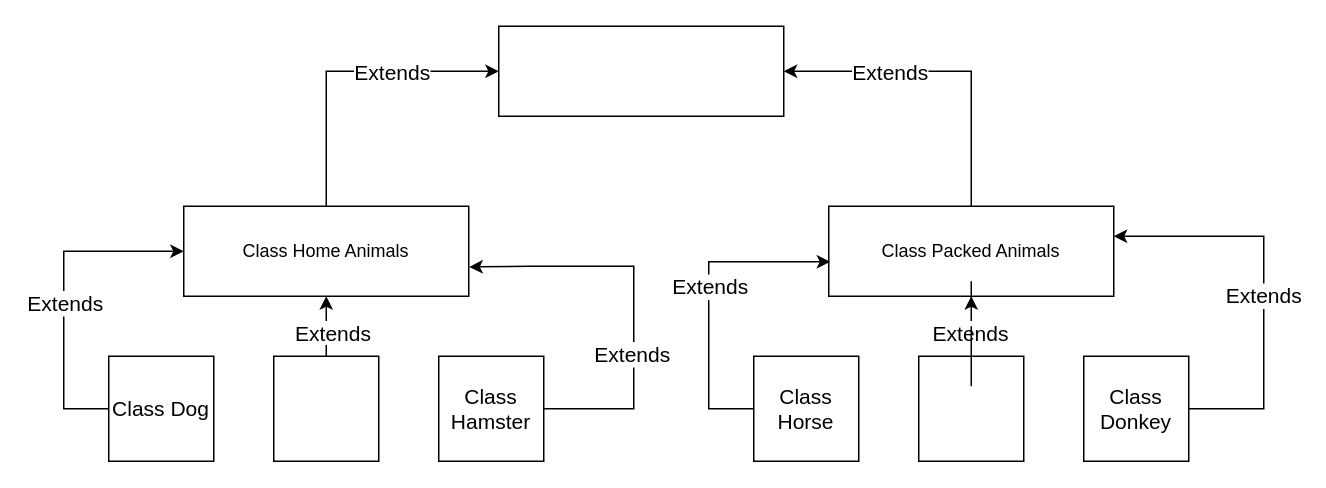
The diagram is 1326 pixels wide and 488 high, and some of its shapes have lost their labels. Each missing label, with the centre of its shape:
Class Animals: the point at 640,70
Class Camel: the point at 970,408
Class Cat: the point at 325,408
